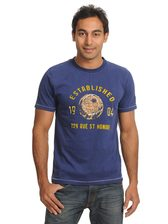clothoes: (31, 58, 141, 184)
